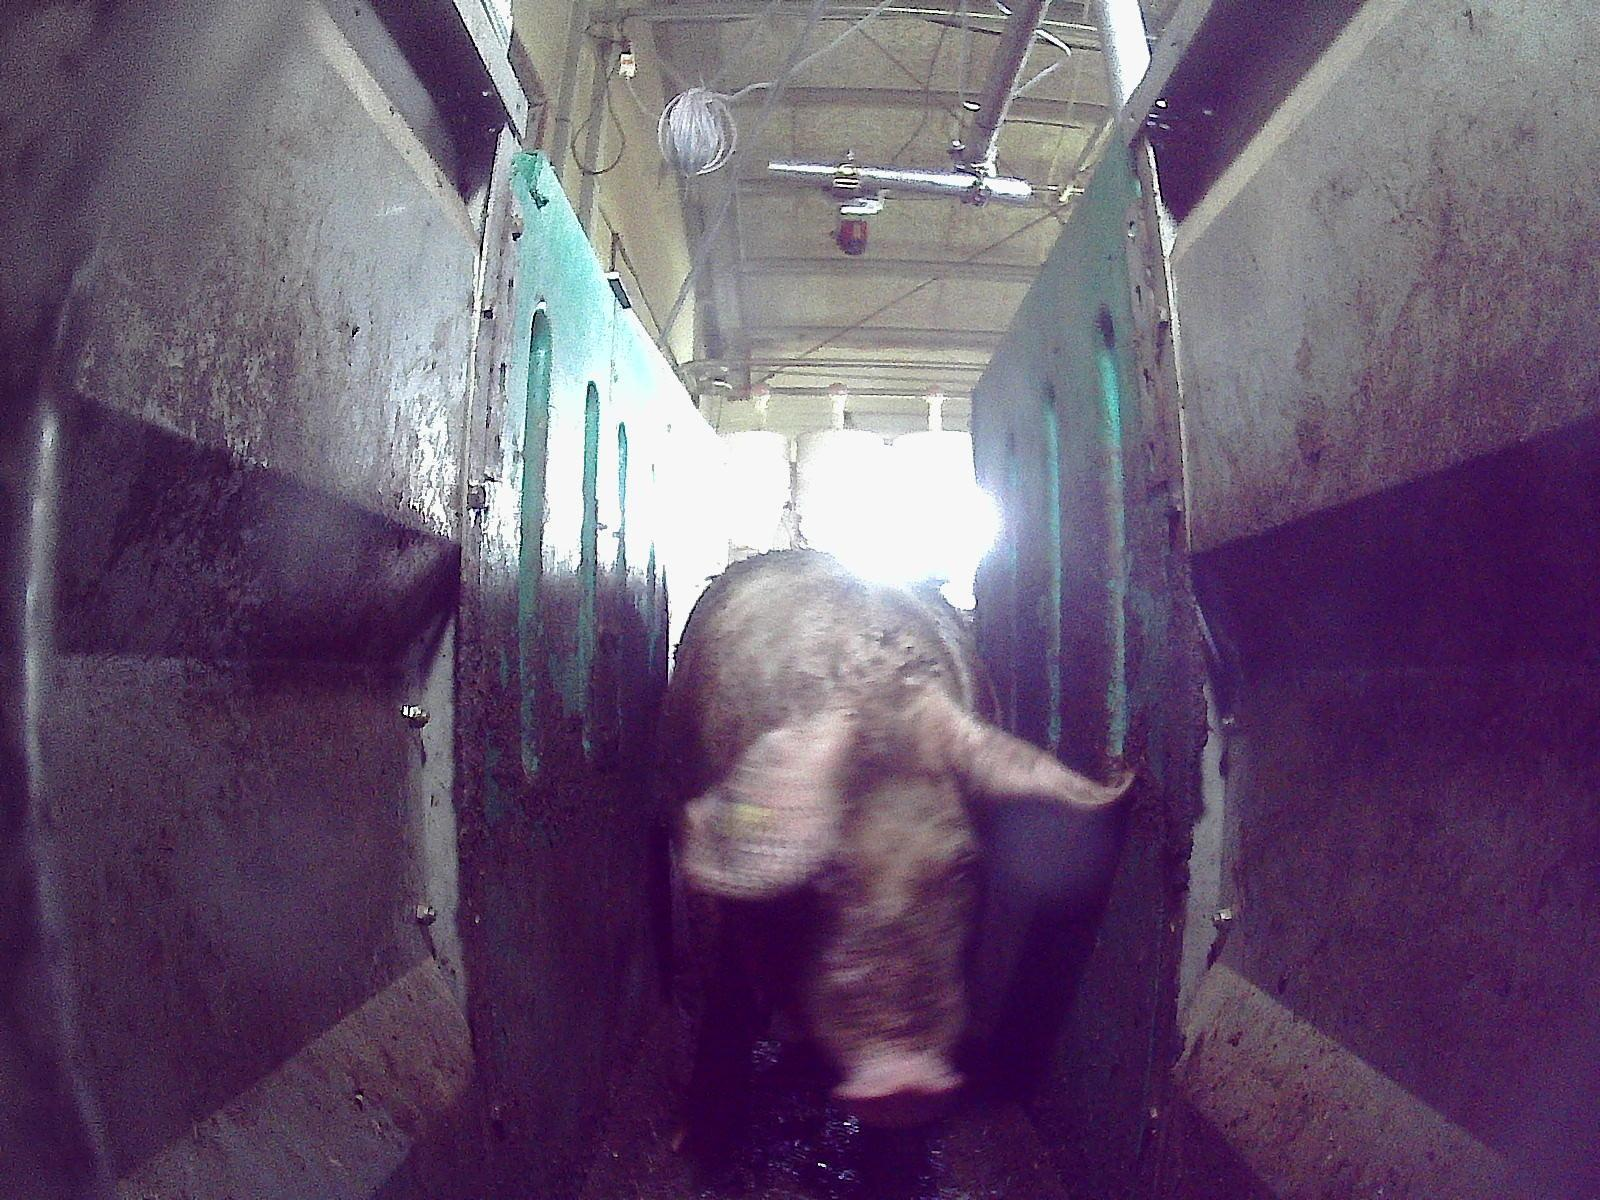Face: (712, 708, 986, 1125)
